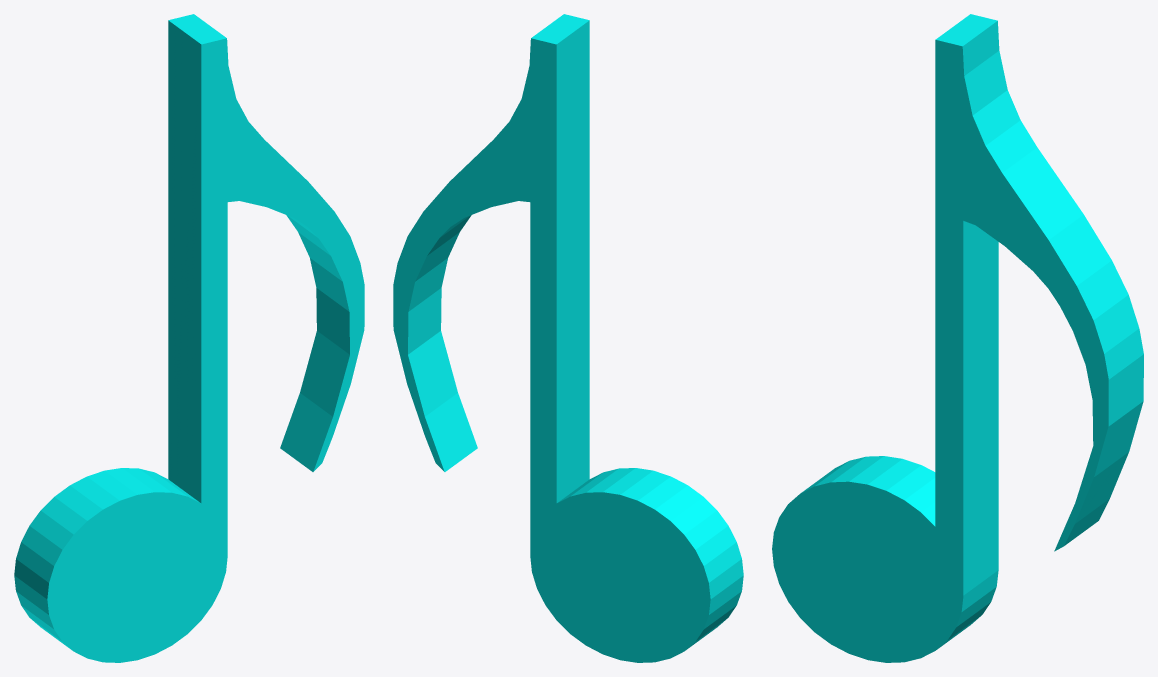
File: player-note-attack.gltf
3 views of the same model, side by side, from view 1: azimuth 30°, elevation 25°; view 2: azimuth 150°, elevation 25°; view 3: azimuth 330°, elevation 25° (orthographic). The views are drawn at different scales.
Visible parts, largest first — view 1: Circle; view 2: Circle; view 3: Circle.
Boxes of the visible parts, <box> form: Circle: <box>14,14,364,662</box>; Circle: <box>393,14,743,662</box>; Circle: <box>772,14,1143,662</box>.
Bounding box in the file's own units: 0.3518 × 0.6357 × 0.0636.
1 material, 1 textured.
